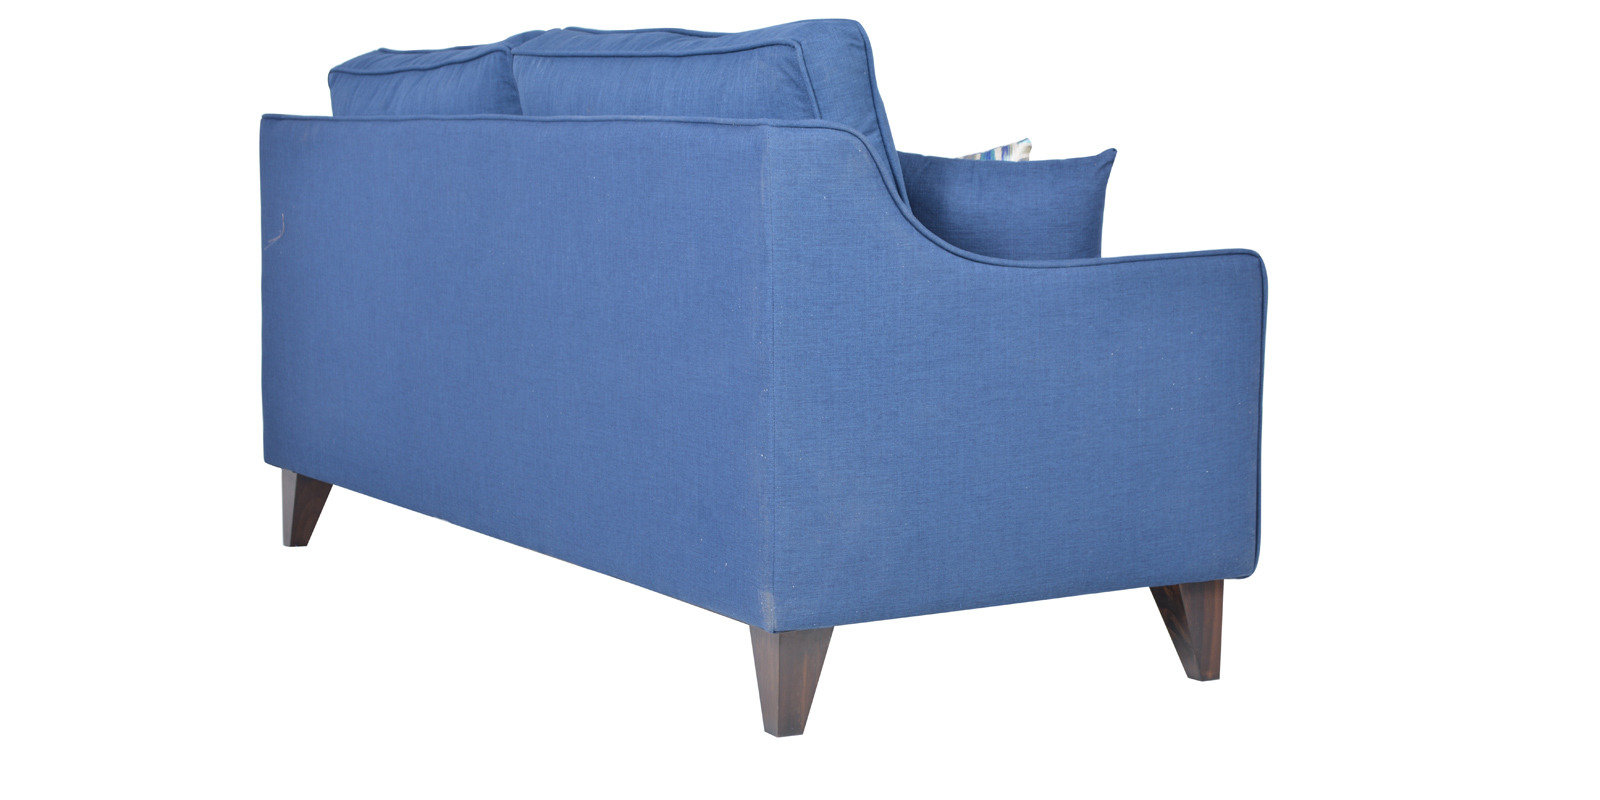Ithaca Impulse Three Seater Sofa with Throw Cushions in Teal Blue Colour by Urba: (247, 16, 1274, 740)
